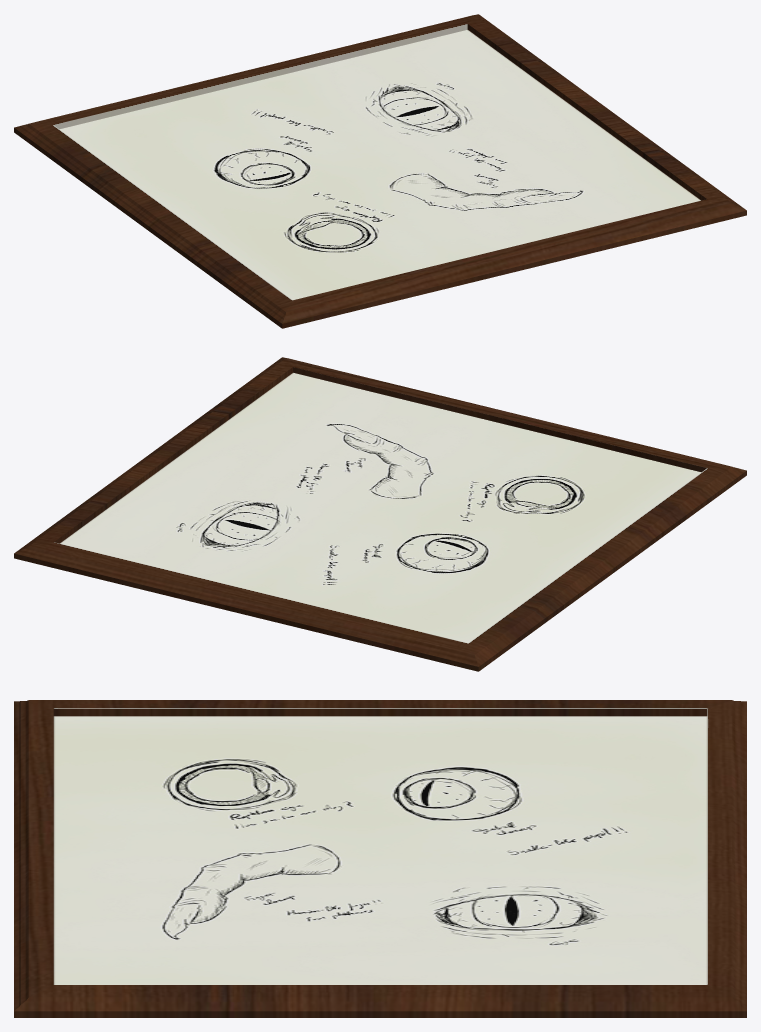
Rendered from cuadro1.fbx.
3 renders of one model, top to bottom at view 1: azimuth 30°, elevation 25°; view 2: azimuth 150°, elevation 25°; view 3: azimuth 270°, elevation 25°, orthographic. The views are drawn at different scales.
Visible parts, largest first — view 1: picture1:cuadro1_manu; view 2: picture1:cuadro1_manu; view 3: picture1:cuadro1_manu.
Part boxes in pixels (x1,y1,x2,y2): picture1:cuadro1_manu: [14, 14, 746, 328]; picture1:cuadro1_manu: [14, 357, 746, 671]; picture1:cuadro1_manu: [14, 700, 746, 1017].
Size of the model in its own units: 3.83 by 0.0923 by 3.83.
1 material, 1 textured.
